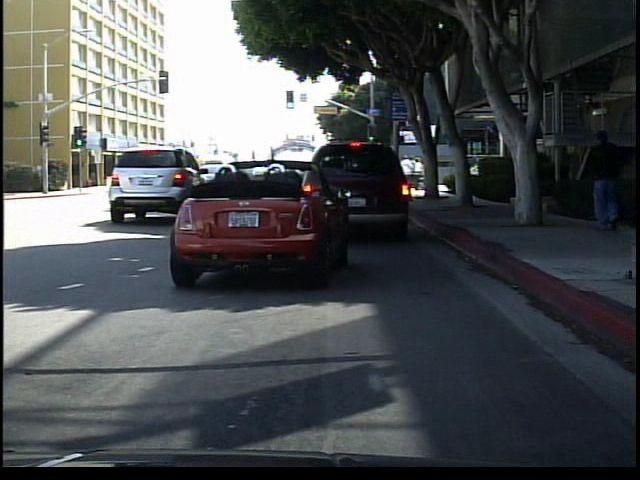person: (584, 125, 630, 232), (514, 143, 544, 224)
